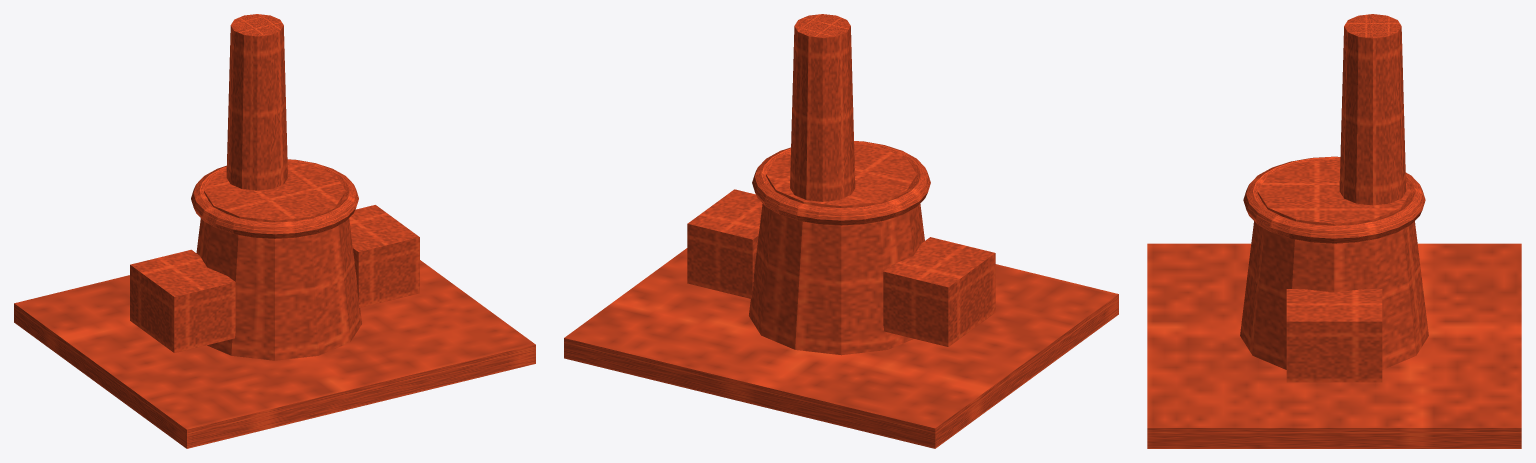
Rendered from ember_forge_02.glb.
3 views of the same model, side by side, from view 1: azimuth 30°, elevation 25°; view 2: azimuth 150°, elevation 25°; view 3: azimuth 270°, elevation 25° (orthographic). The views are drawn at different scales.
Parts seen in each view (by area): view 1: Foundation, Furnace, Chimney, Bellows, Bellows.001, FurnaceRim; view 2: Foundation, Furnace, Chimney, Bellows, Bellows.001, FurnaceRim; view 3: Foundation, Furnace, Chimney, Bellows.001, FurnaceRim.
Boxes of the visible parts, x1,y1,x2,y2 form: Foundation: (14, 260, 535, 448); Furnace: (196, 162, 361, 360); Chimney: (226, 14, 287, 190); Bellows: (130, 249, 235, 352); Bellows.001: (349, 205, 419, 307); FurnaceRim: (191, 159, 358, 238); Foundation: (564, 248, 1118, 448); Furnace: (749, 144, 924, 355); Chimney: (790, 14, 855, 201); Bellows: (883, 237, 995, 346); Bellows.001: (687, 189, 762, 298); FurnaceRim: (752, 141, 930, 225); Foundation: (1147, 243, 1521, 448); Furnace: (1240, 159, 1428, 369); Chimney: (1339, 14, 1406, 205); Bellows.001: (1286, 289, 1382, 382); FurnaceRim: (1243, 156, 1425, 243).
Bounding box in the file's own units: 4.55 × 3.8 × 3.9.
1 material, 1 textured.
